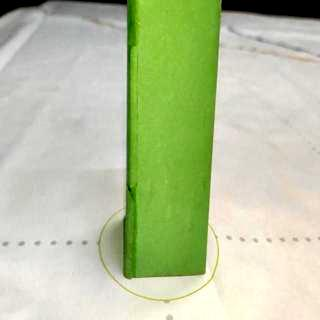greenbox: (126, 0, 223, 285)
